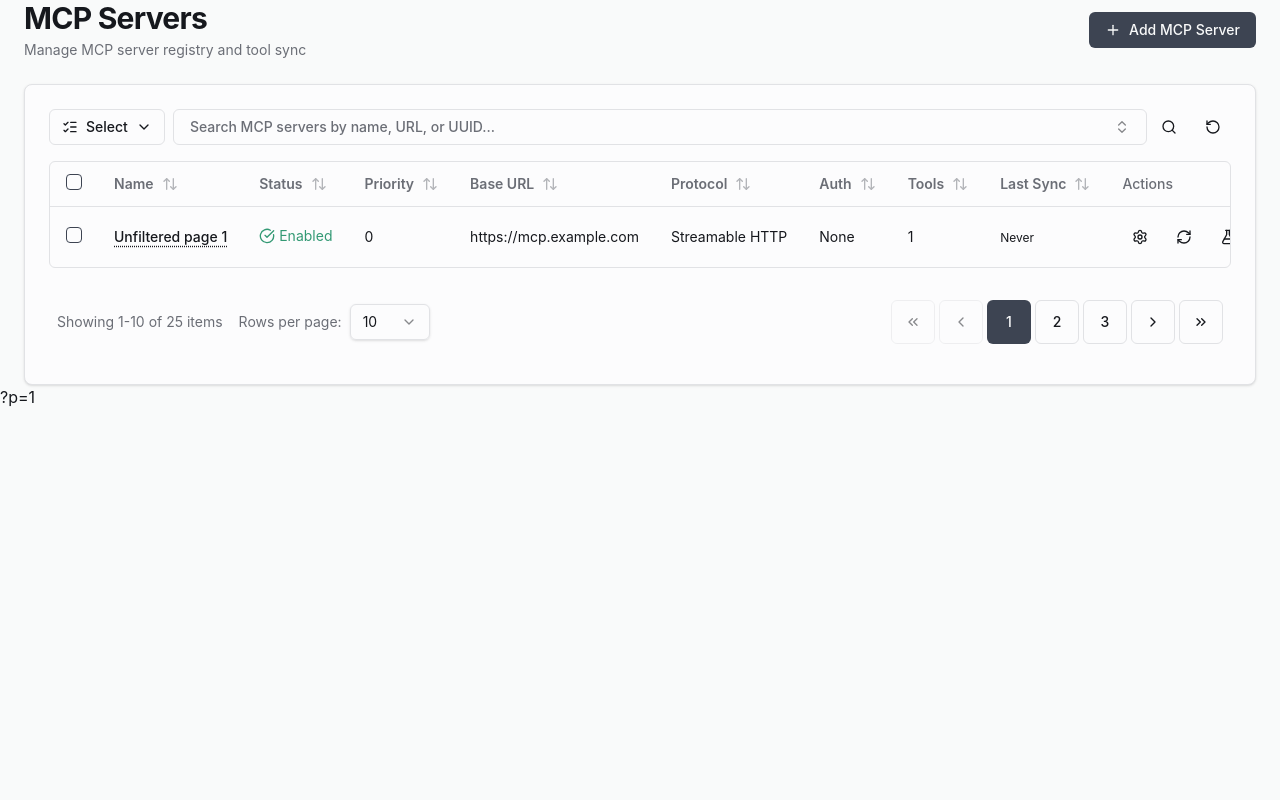
Test: MCP server search pagination › applies a new keyword from page two, not the old scope
The image size is (1280, 800).
Expected: the button "Unfiltered page 1" is shown, [114, 227, 227, 247]
Step 1. Click the button named "Page 2" → x=1057, y=322, box [1035, 300, 1079, 344]
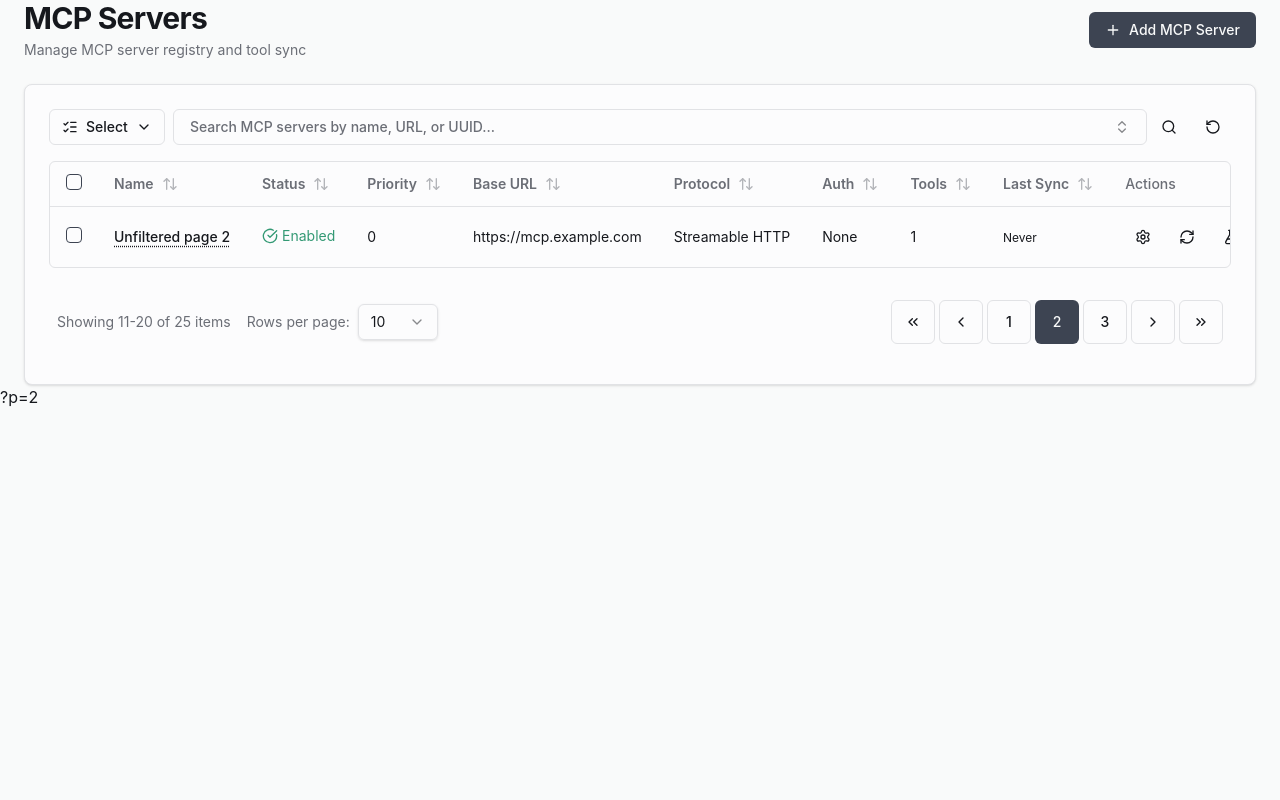
Now the button "Unfiltered page 2" is shown, box [114, 227, 230, 247]
Step 2. Click the dropdown labelled "Search MCP servers by name, URL, or UUID..." → x=342, y=126, box [173, 109, 1147, 145]
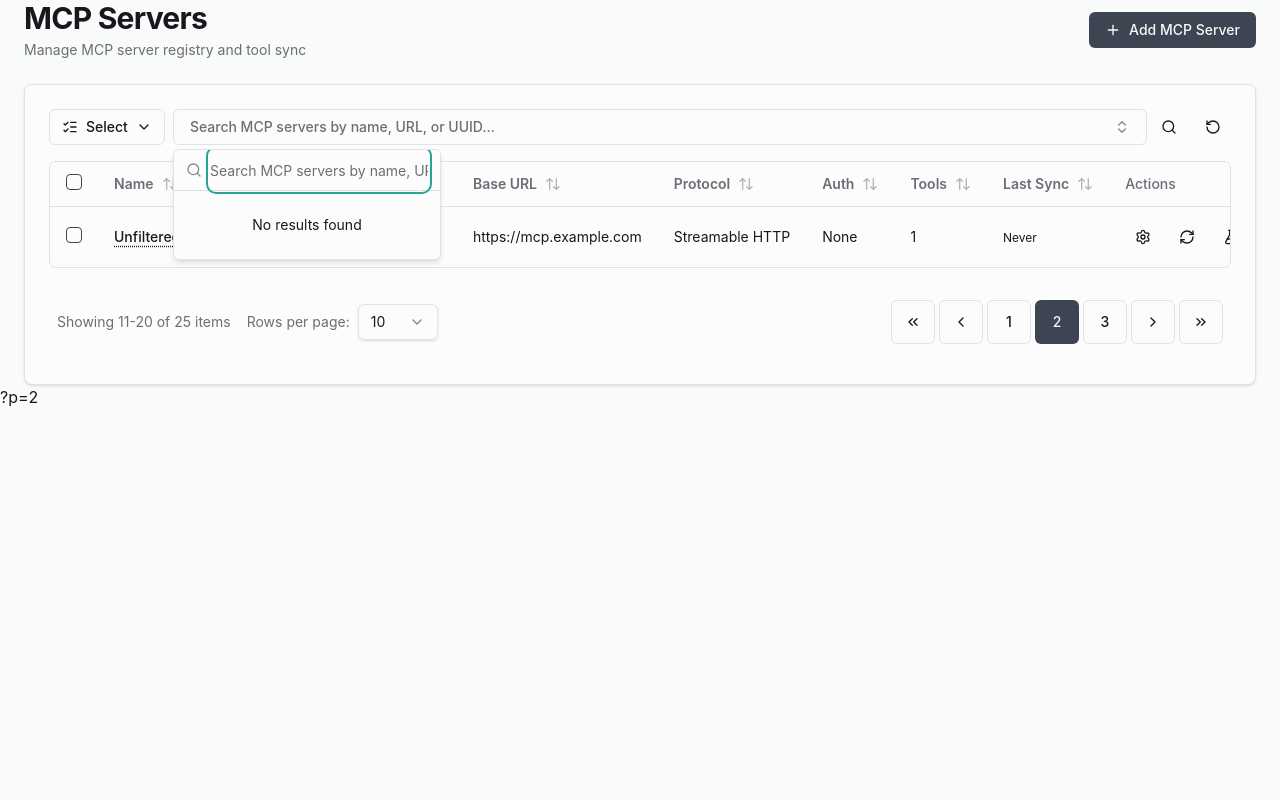
Step 3. Type "  Fresh  " into the 2nd dropdown with placeholder "Search MCP servers by name, URL, or UUID..." → x=319, y=170, box [210, 150, 428, 190]
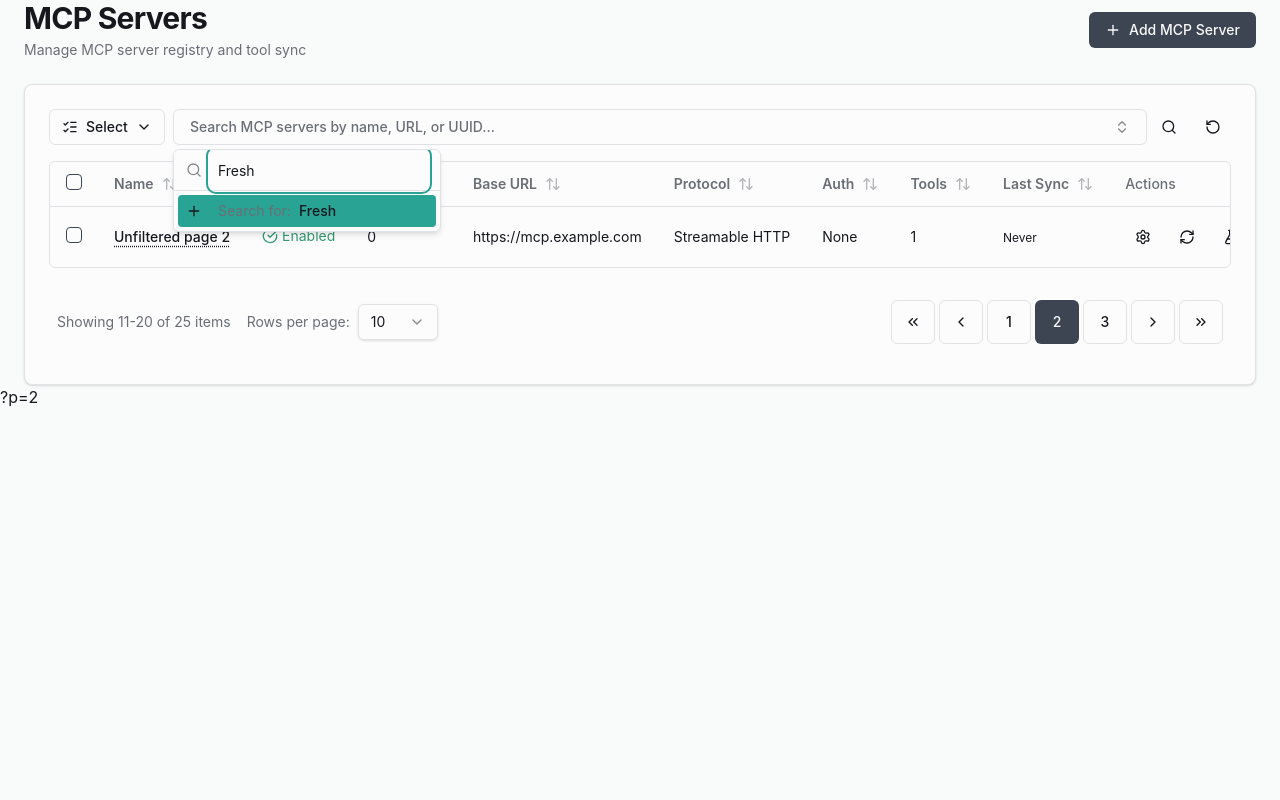
Step 4. Click the option "Search for: Fresh" → x=307, y=211, box [178, 195, 436, 227]
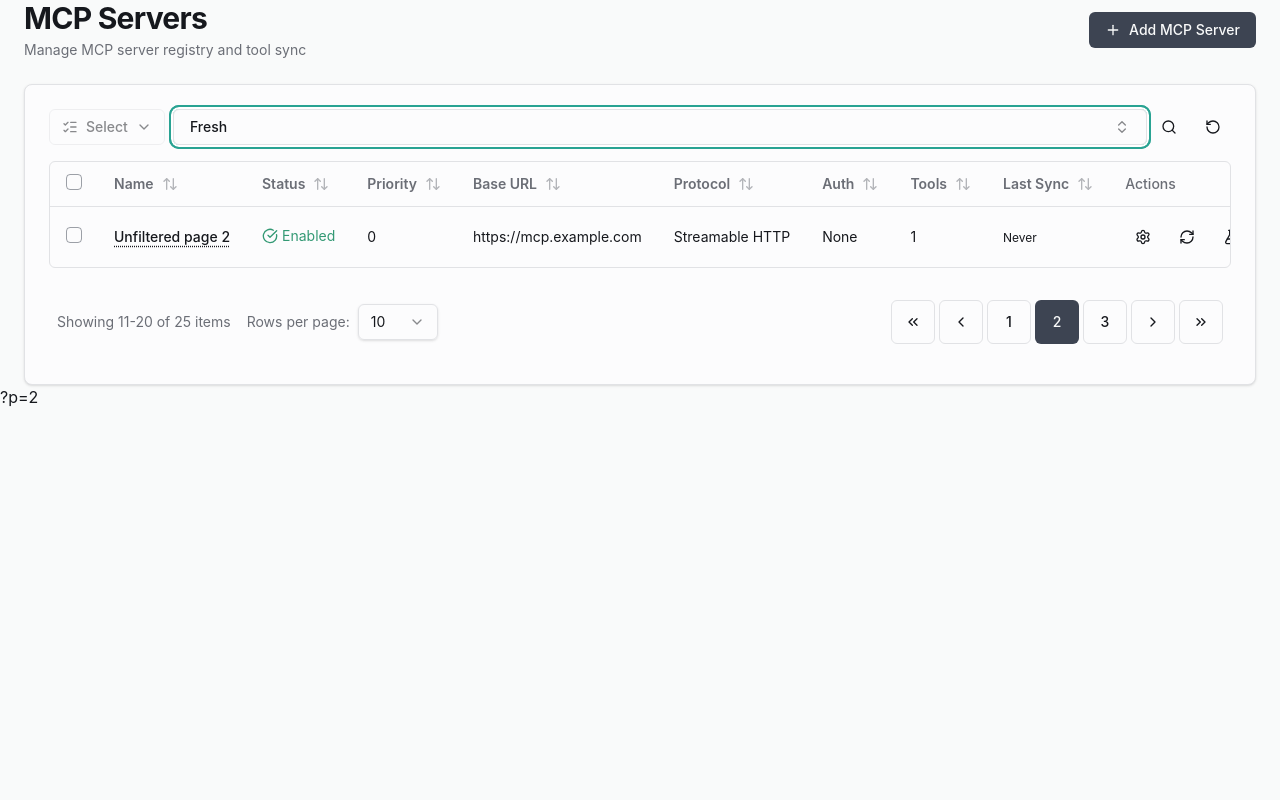
Step 5. Click the button named "Search" → x=1169, y=127, box [1151, 109, 1187, 145]
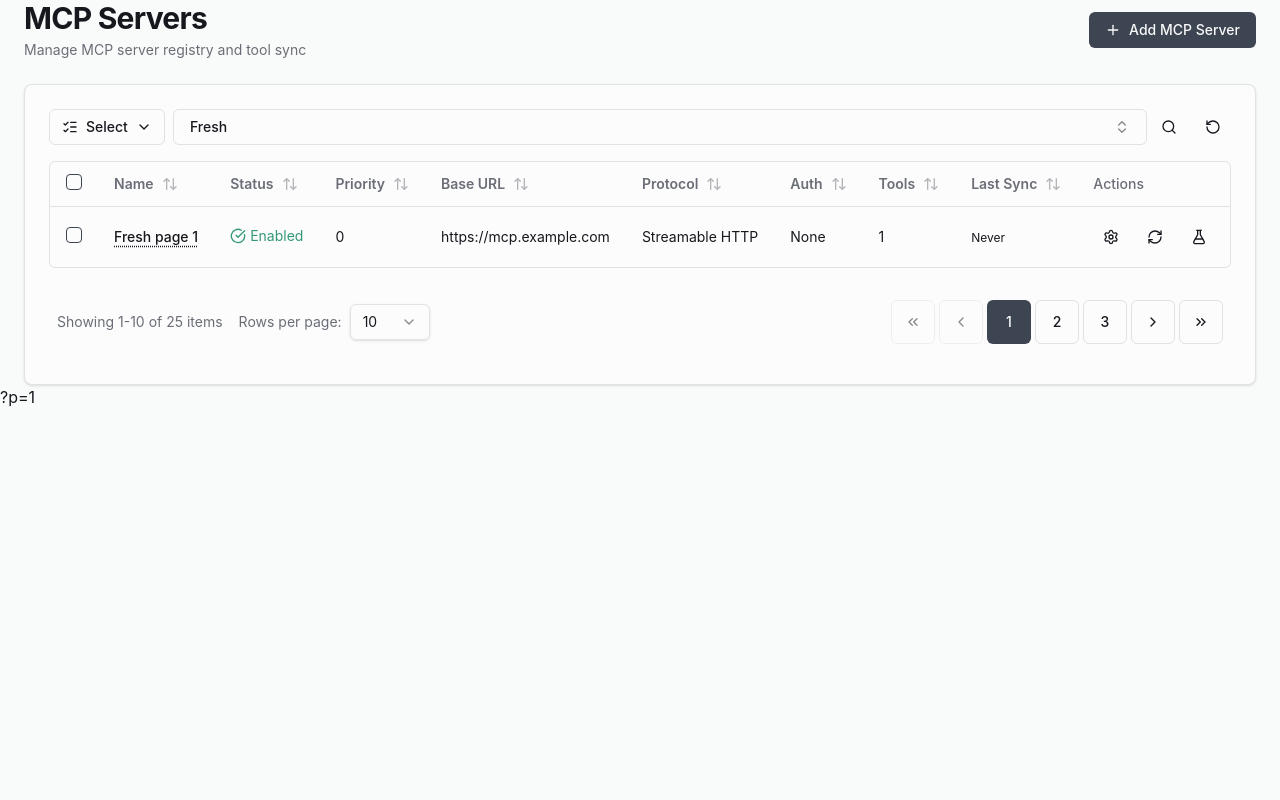
Now the text "Fresh" is shown, box [190, 118, 227, 135]
Now the button "Fresh page 1" is shown, box [114, 227, 198, 247]
Now the text named "Current location" shows "p=1", box [0, 387, 35, 407]
Step 6. Click the button named "Page 2" → x=1057, y=322, box [1035, 300, 1079, 344]
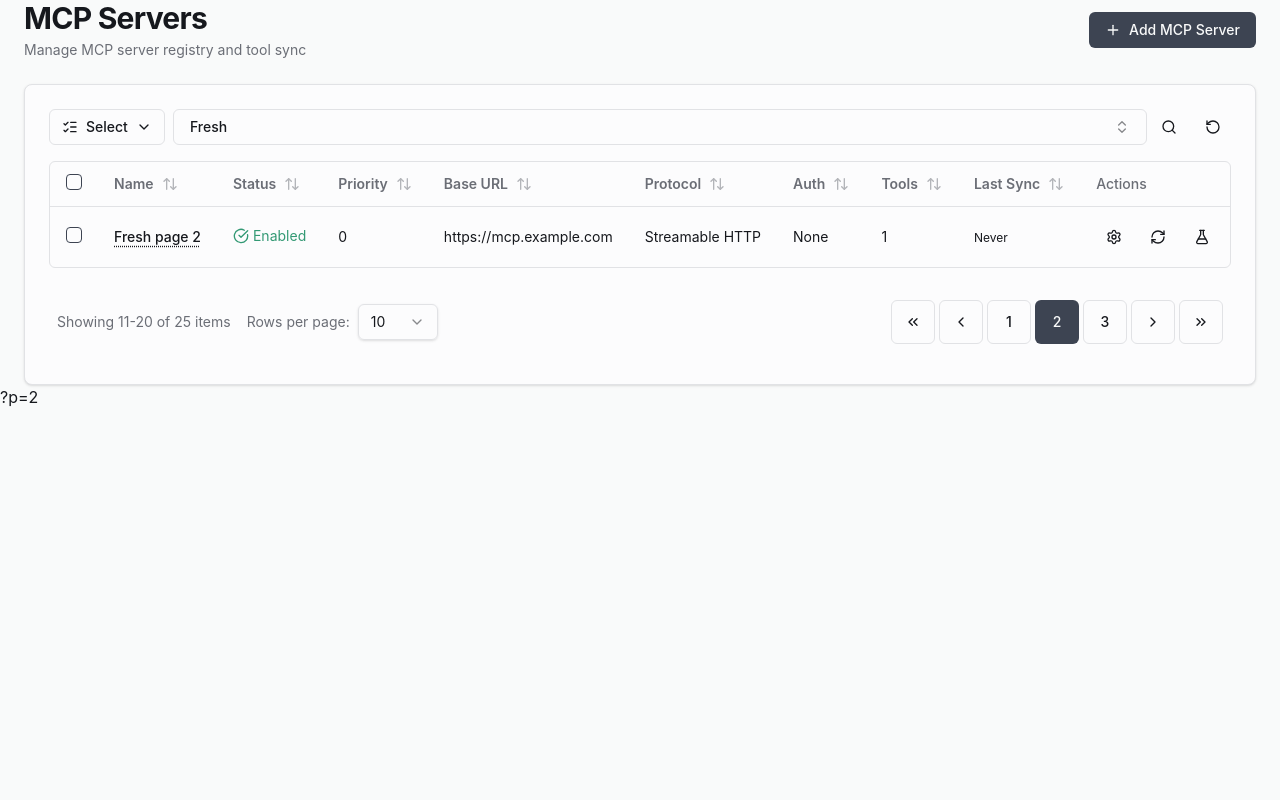
Now the text "Fresh" is shown, box [190, 118, 227, 135]
Now the button "Fresh page 2" is shown, box [114, 227, 201, 247]
